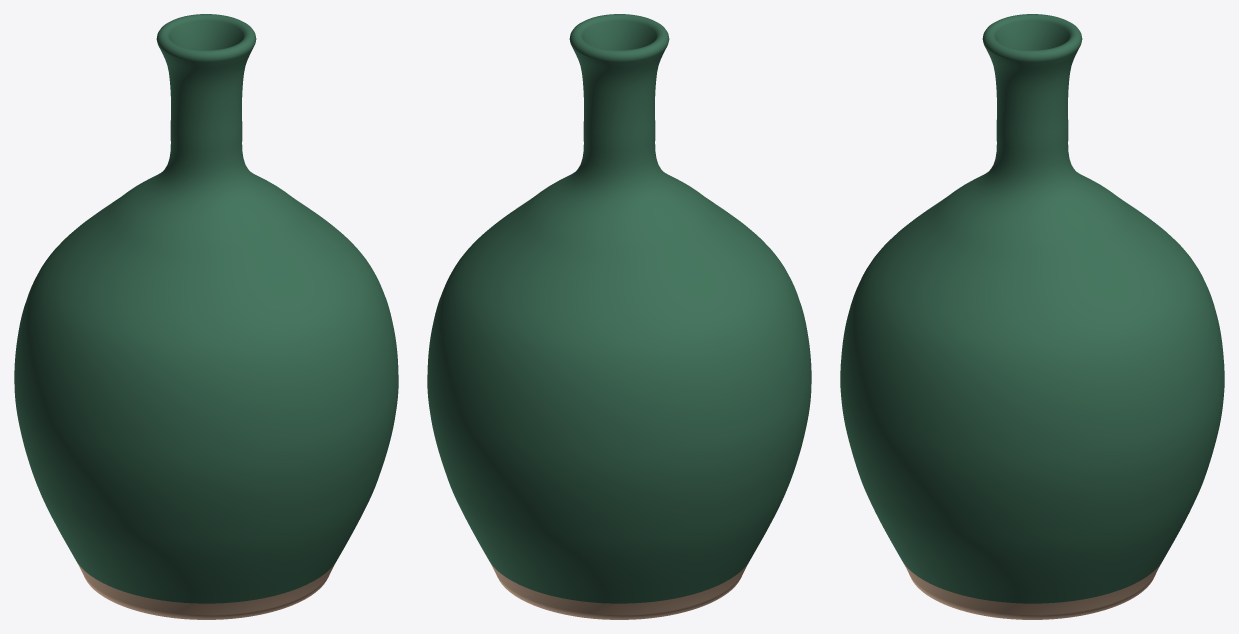
File: turia.glb
3 views of the same model, side by side, from view 1: azimuth 30°, elevation 25°; view 2: azimuth 150°, elevation 25°; view 3: azimuth 270°, elevation 25° (orthographic).
Parts seen in each view (by area): view 1: turia; view 2: turia; view 3: turia.
Boxes of the visible parts, x1,y1,x2,y2 form: turia: (14, 14, 398, 619); turia: (427, 14, 811, 619); turia: (840, 14, 1224, 619).
Size of the model in its own units: 0.172 by 0.2647 by 0.172.
